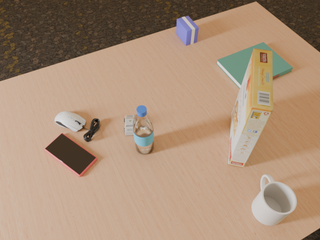book: (216, 42, 293, 89)
bottle: (133, 105, 154, 154)
box: (228, 48, 273, 167), (176, 16, 199, 45)
cup: (252, 174, 297, 225)
mouse: (55, 111, 86, 132)
phone: (44, 133, 97, 177)
toy_car: (124, 115, 135, 135)
